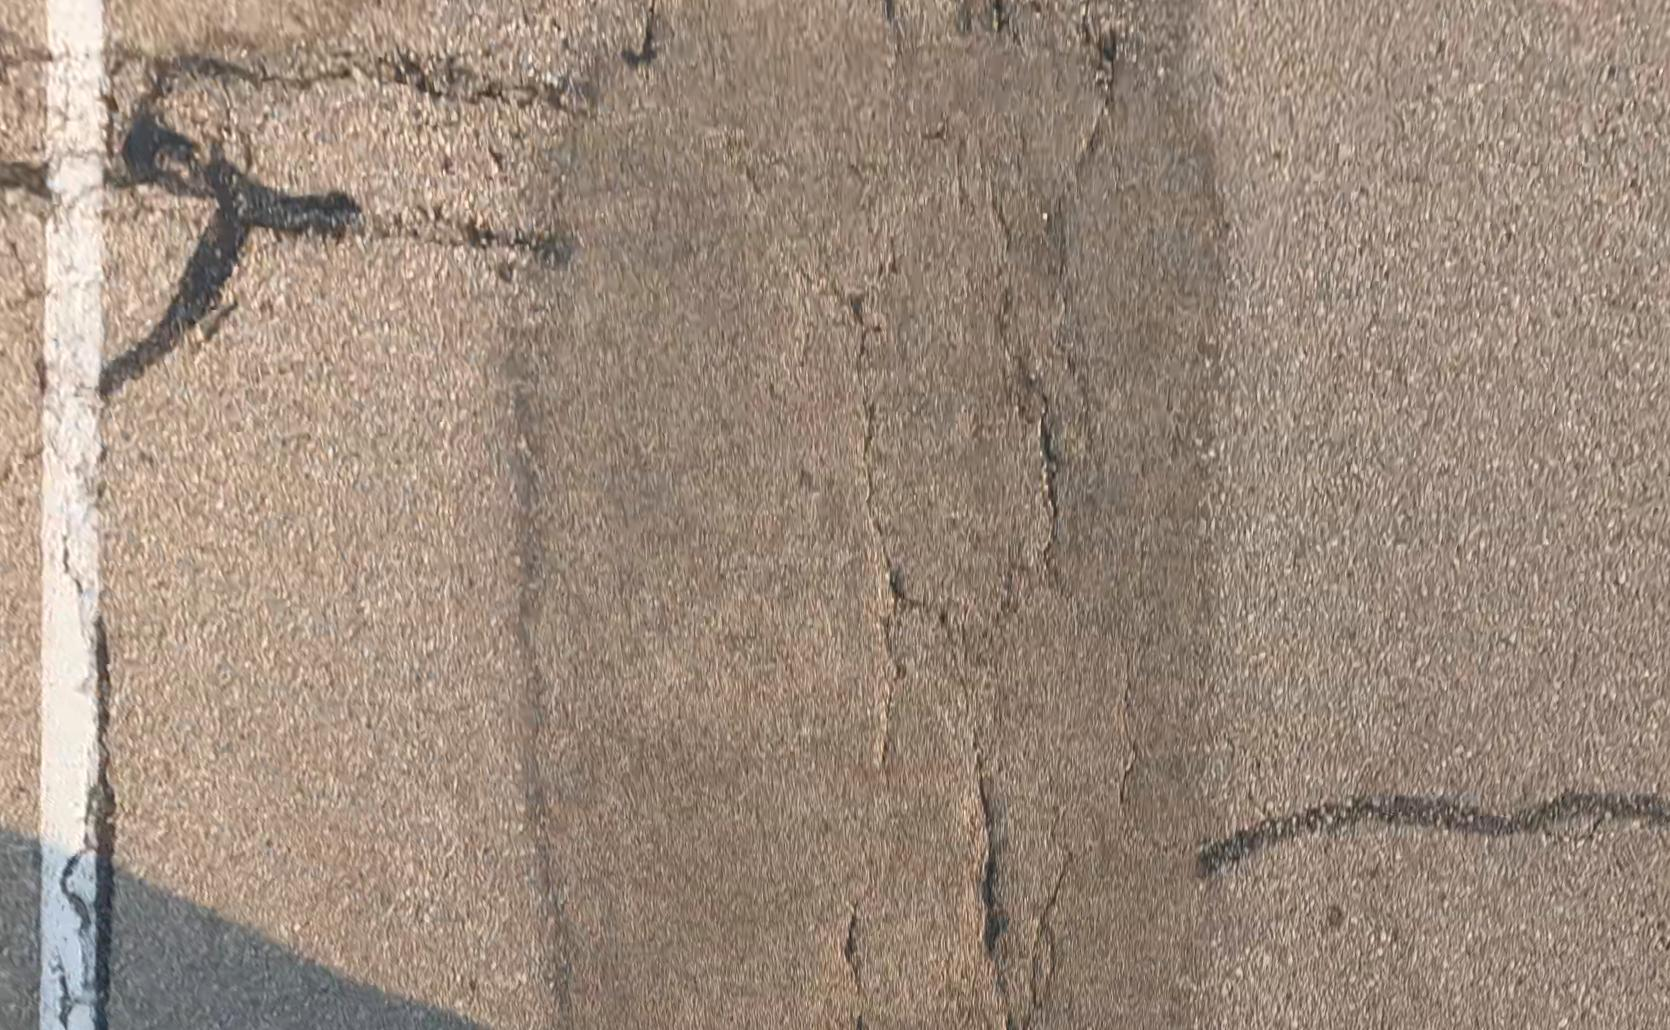pothole_patch_poor: (499, 12, 1200, 1030)
